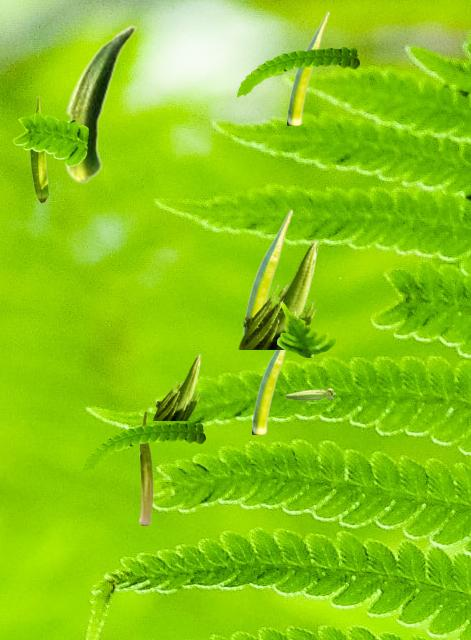okra: (62, 25, 135, 183), (237, 238, 319, 348), (243, 209, 292, 334), (287, 11, 328, 124), (152, 353, 201, 419), (252, 349, 286, 433), (30, 96, 48, 202), (139, 411, 152, 524), (285, 388, 334, 399)
